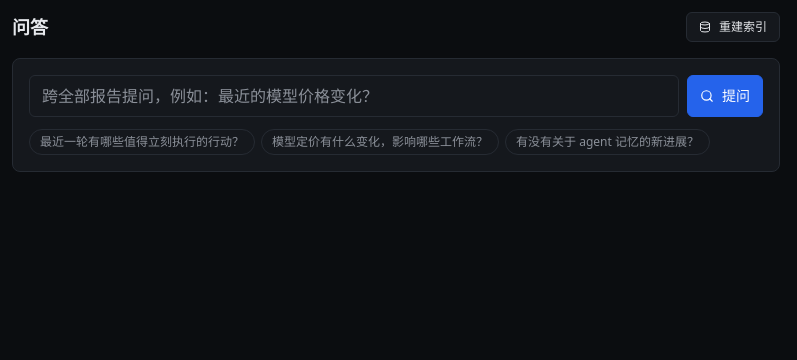
Test: AskPage › does not show the empty-citation warning when sources exist
Type "价格变化" into the field with placeholder "跨全部报告提问，例如：最近的模型价格变化？". click: (354, 96)
box: [29, 75, 679, 117]
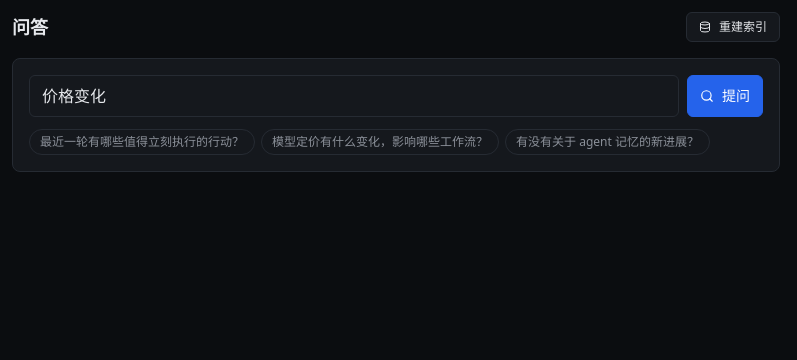
Click the button "提问". click: (725, 96)
box: [687, 75, 763, 117]
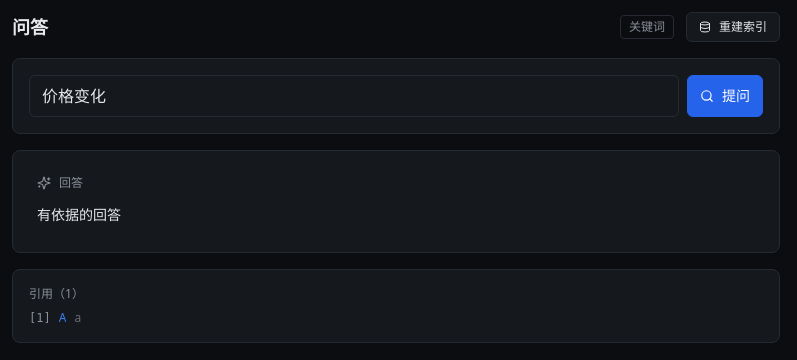
Check: the text "有依据的回答" is shown, box [37, 205, 121, 224]
Check: the text "引用（1）" is shown, box [29, 284, 84, 302]
